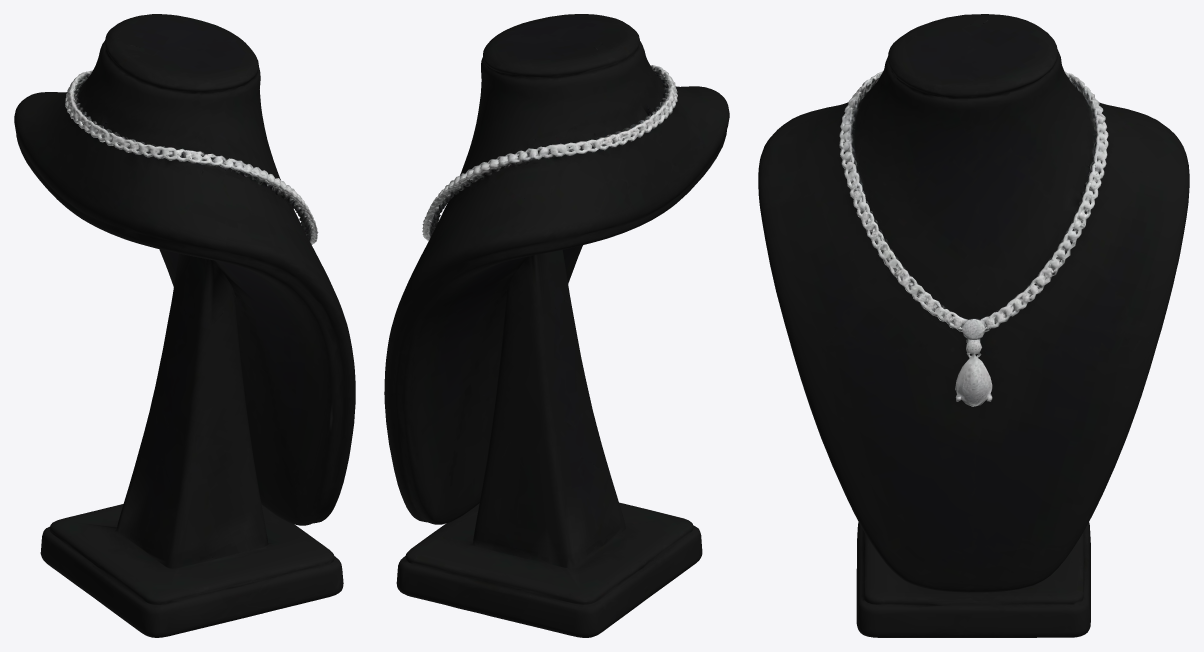
The model's file is jewel-diamond-hf.glb.
3 renders of one model, left to right at view 1: azimuth 30°, elevation 25°; view 2: azimuth 150°, elevation 25°; view 3: azimuth 270°, elevation 25°, orthographic.
Parts seen in each view (by area): view 1: tripo_node_31dd7b6b-bfdc-4253-96e4-000b7f5310d0; view 2: tripo_node_31dd7b6b-bfdc-4253-96e4-000b7f5310d0; view 3: tripo_node_31dd7b6b-bfdc-4253-96e4-000b7f5310d0.
Part boxes in pixels (bbox=[...]): tripo_node_31dd7b6b-bfdc-4253-96e4-000b7f5310d0: bbox=[14, 14, 355, 637]; tripo_node_31dd7b6b-bfdc-4253-96e4-000b7f5310d0: bbox=[384, 14, 729, 637]; tripo_node_31dd7b6b-bfdc-4253-96e4-000b7f5310d0: bbox=[758, 14, 1189, 637].
Size of the model in its own units: 0.4717 by 1 by 0.7165.
1 material, 1 textured.
